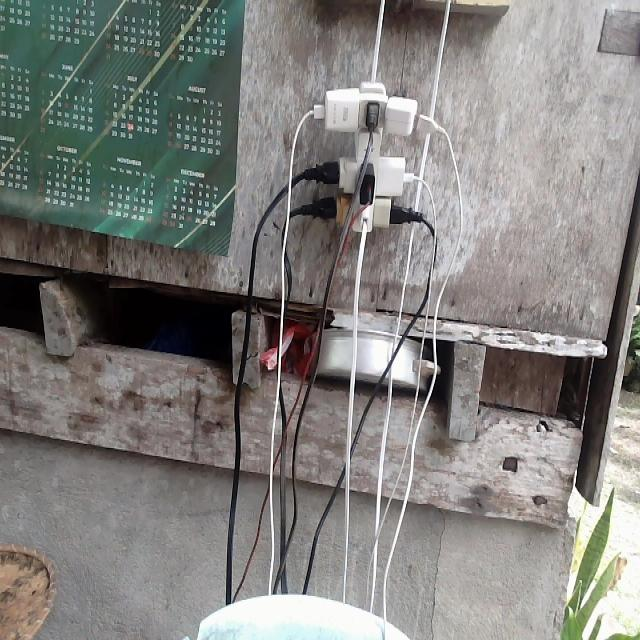-: (292, 73, 447, 244)
